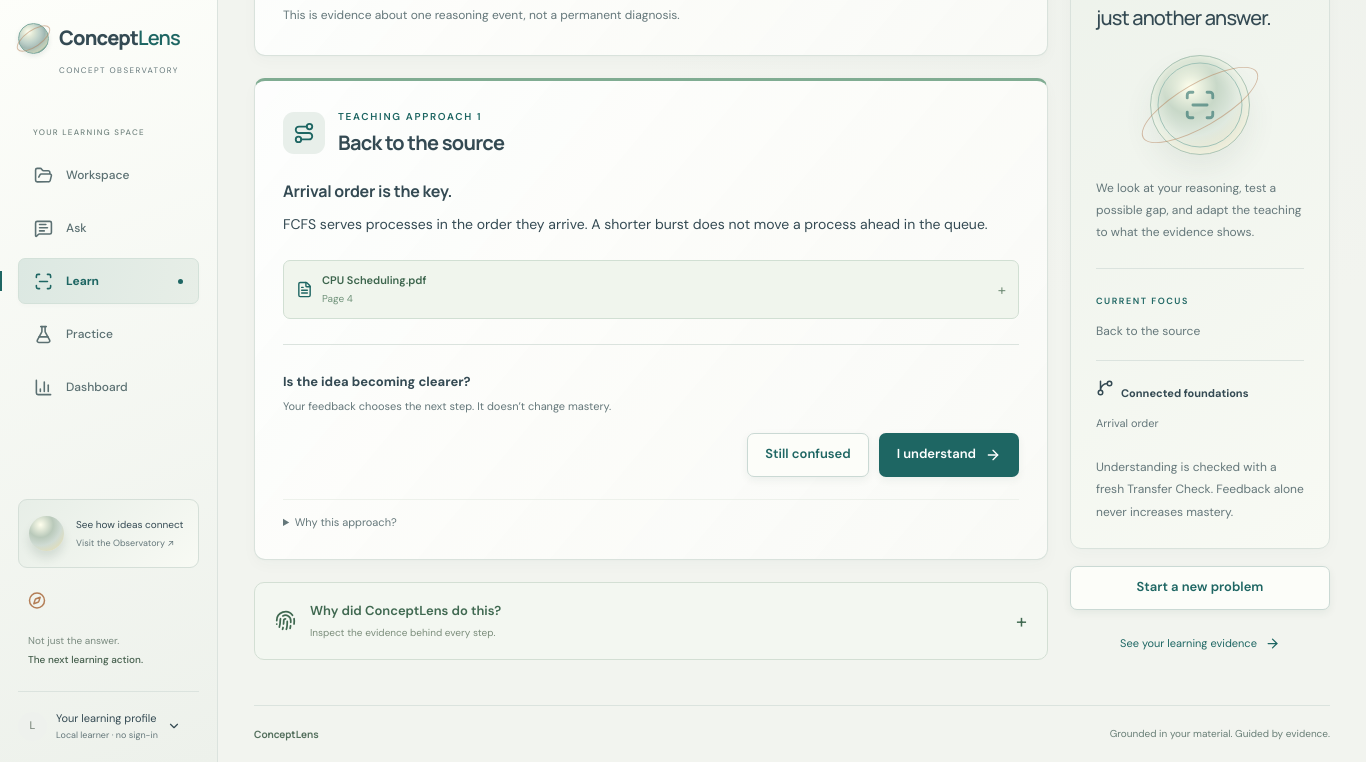
Test case: application contracts › recovers a stale feedback by GETting the server session
(page scrolled)
Click the button "Still confused".
click(808, 454)  # box [747,432,869,476]
(page scrolled)
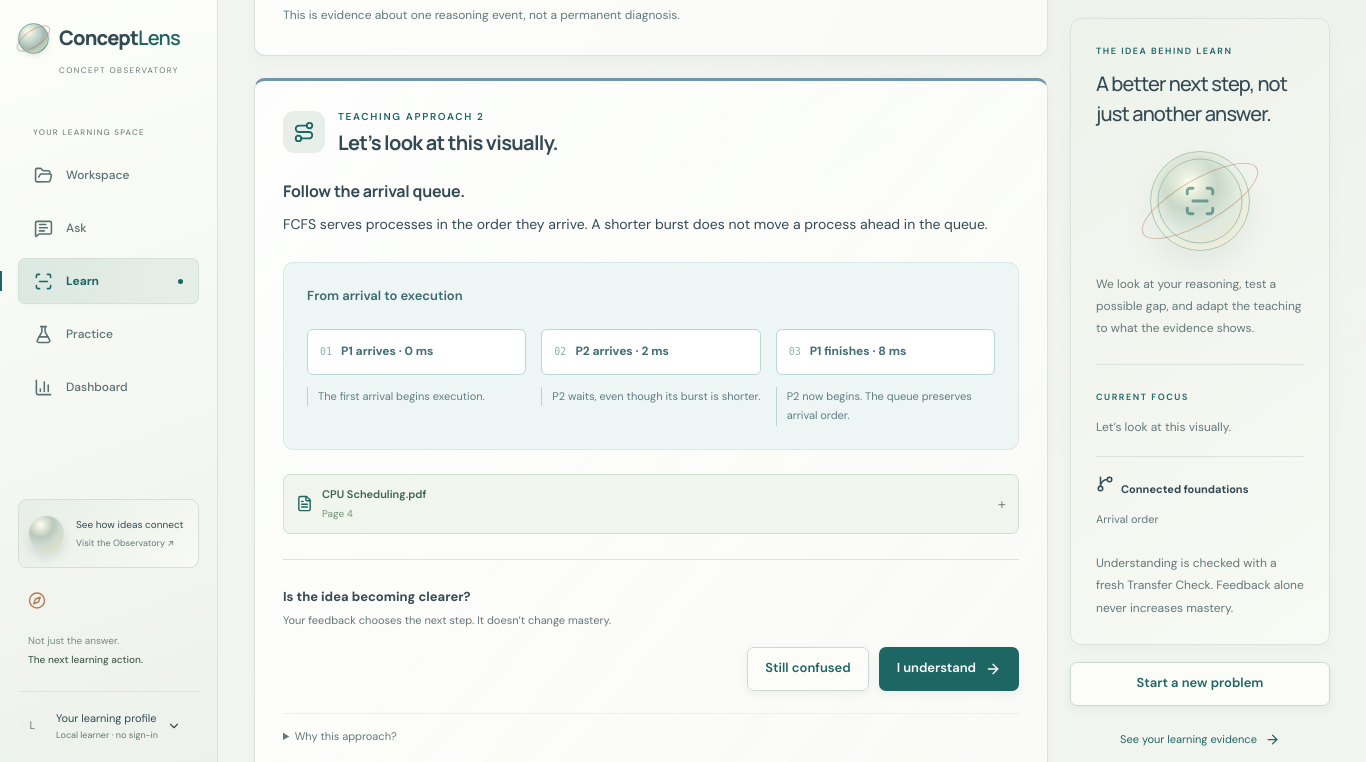
Result: the heading "Let’s look at this visually." is shown at [338,130,558,156]
Result: the text "P2 arrives · 2 ms" is shown at [575,342,669,362]
